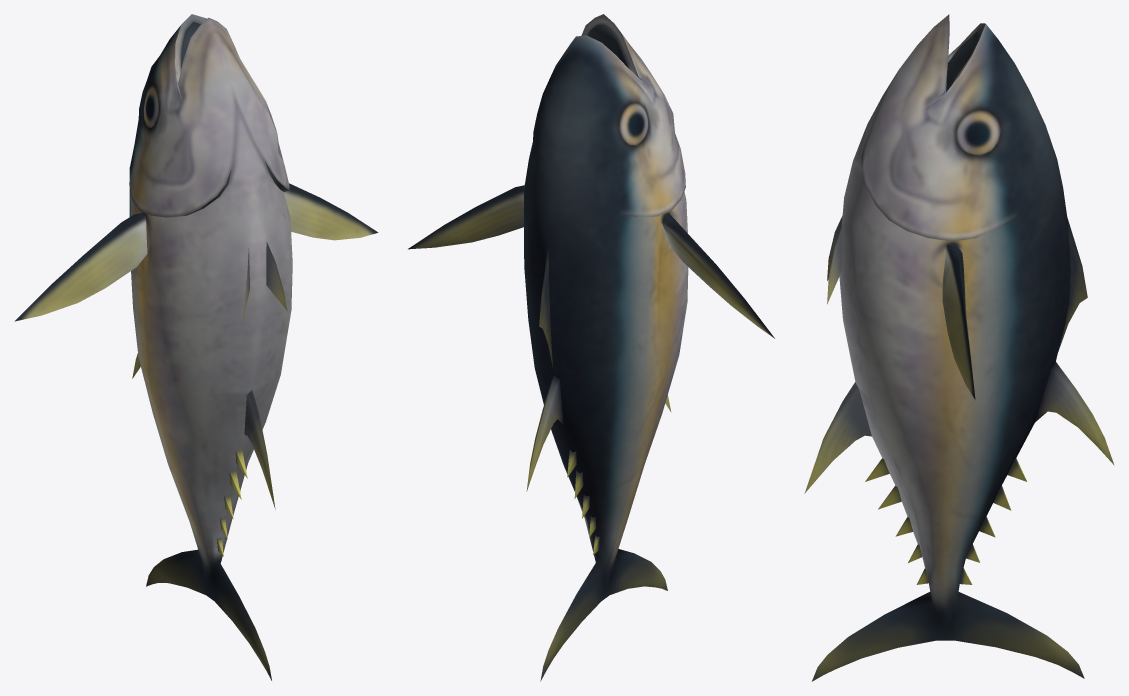
File: tuna.glb
3 views of the same model, side by side, from view 1: azimuth 30°, elevation 25°; view 2: azimuth 150°, elevation 25°; view 3: azimuth 270°, elevation 25° (orthographic). The views are drawn at different scales.
Visible parts, largest first — view 1: FishMaguro__mMaguro; view 2: FishMaguro__mMaguro; view 3: FishMaguro__mMaguro.
Part boxes in pixels (box(x1,y1,x2,y2)): FishMaguro__mMaguro: box(14, 14, 378, 680); FishMaguro__mMaguro: box(408, 14, 774, 681); FishMaguro__mMaguro: box(804, 14, 1114, 681).
Bounding box in the file's own units: 1.26 × 2.04 × 0.8597.
1 material, 1 textured.
